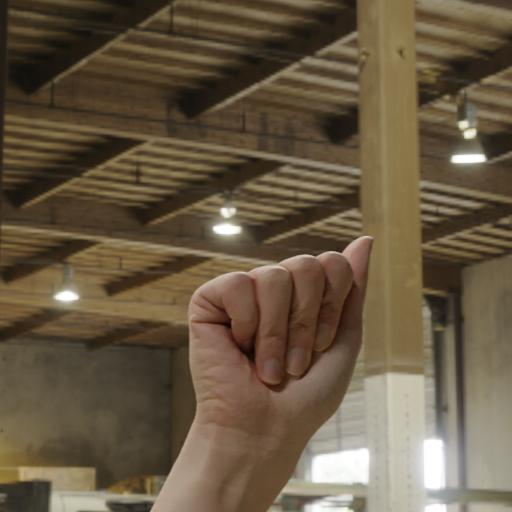A: (180, 194, 399, 472)
